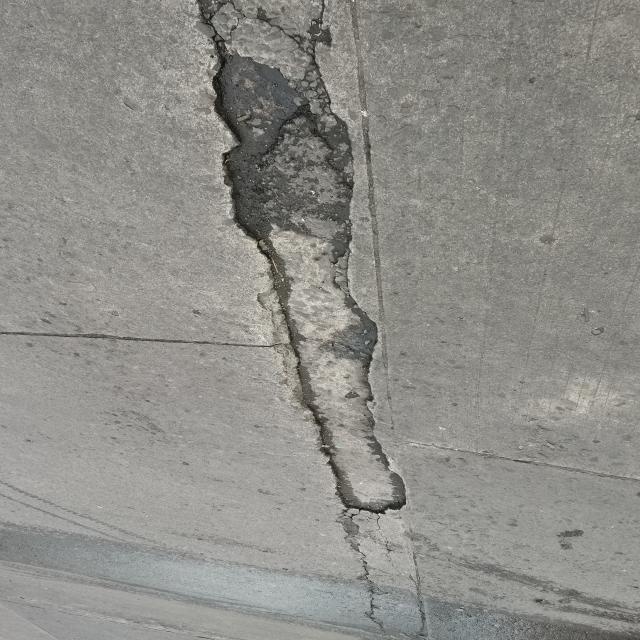pothole: (160, 62, 463, 535)
